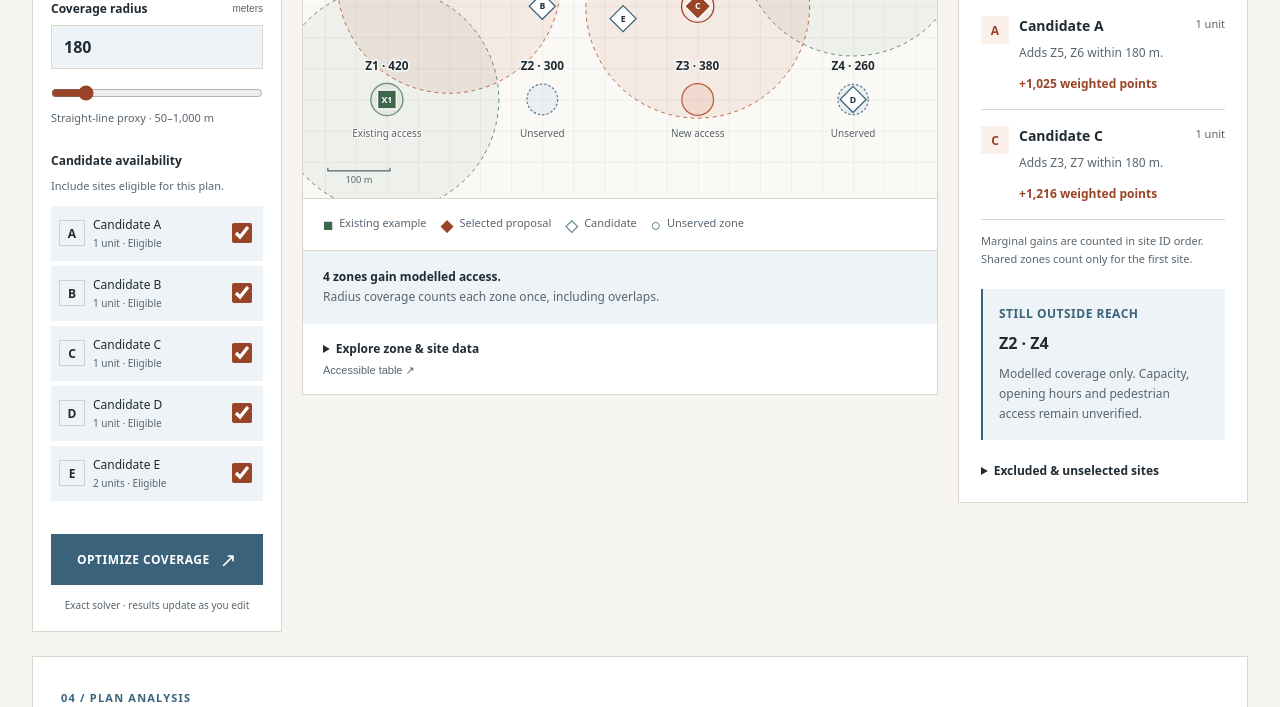
it: keeps map, zone table and recommendations consistent
(page scrolled)
Step 1. Click the heading "Explore zone & site data" → (401, 358), box [323,340,479,376]
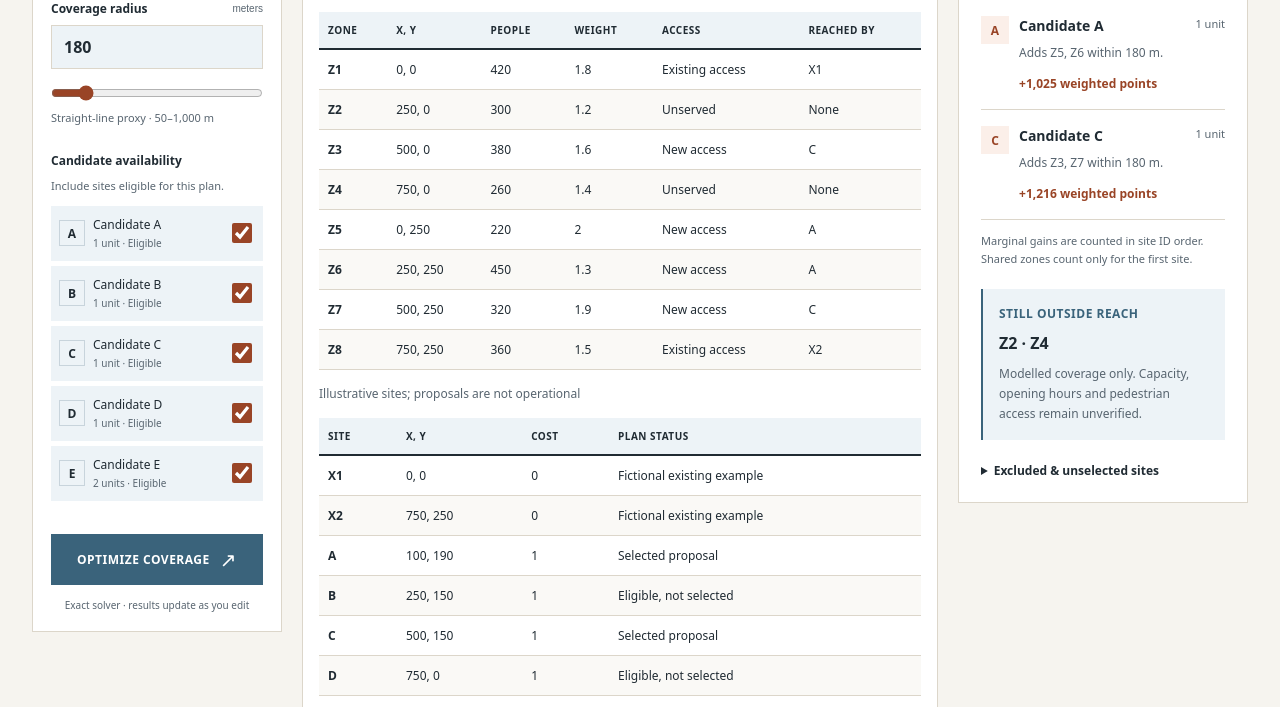
Expected: the text "New access" next to "1.6" is shown, [662,141,727,158]
Expected: the text "C" in the row of "1.6" is shown, [808,141,816,158]
